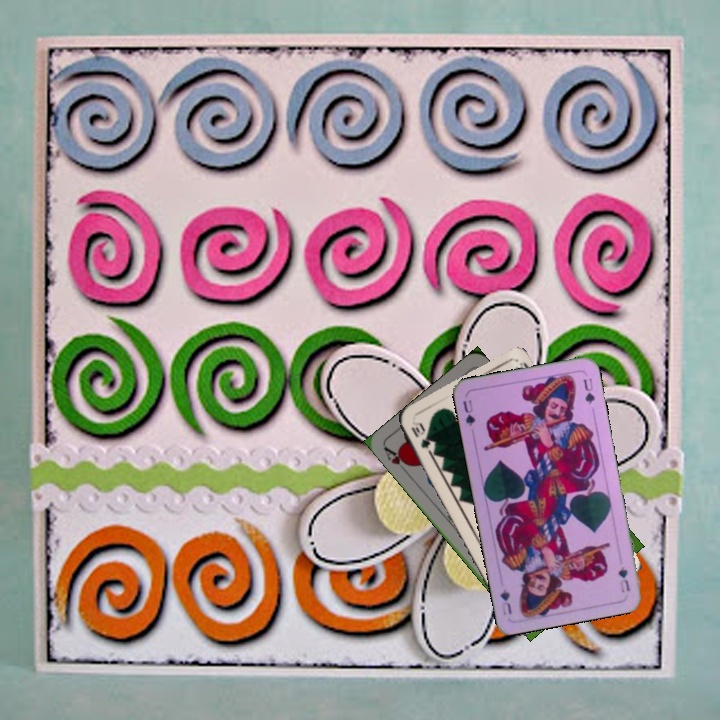G10: (407, 418, 433, 451)
GU: (458, 396, 478, 429), (614, 562, 632, 595)
HA: (379, 442, 414, 477)
